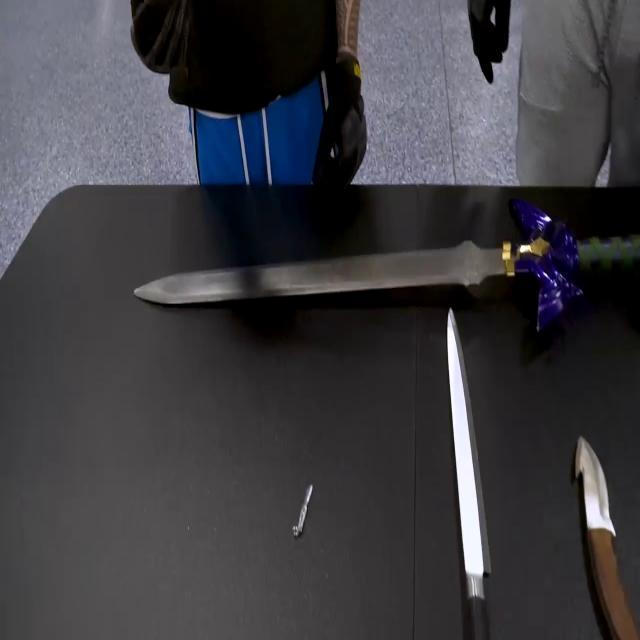Knife: (437, 301, 508, 637), (574, 429, 636, 639)
